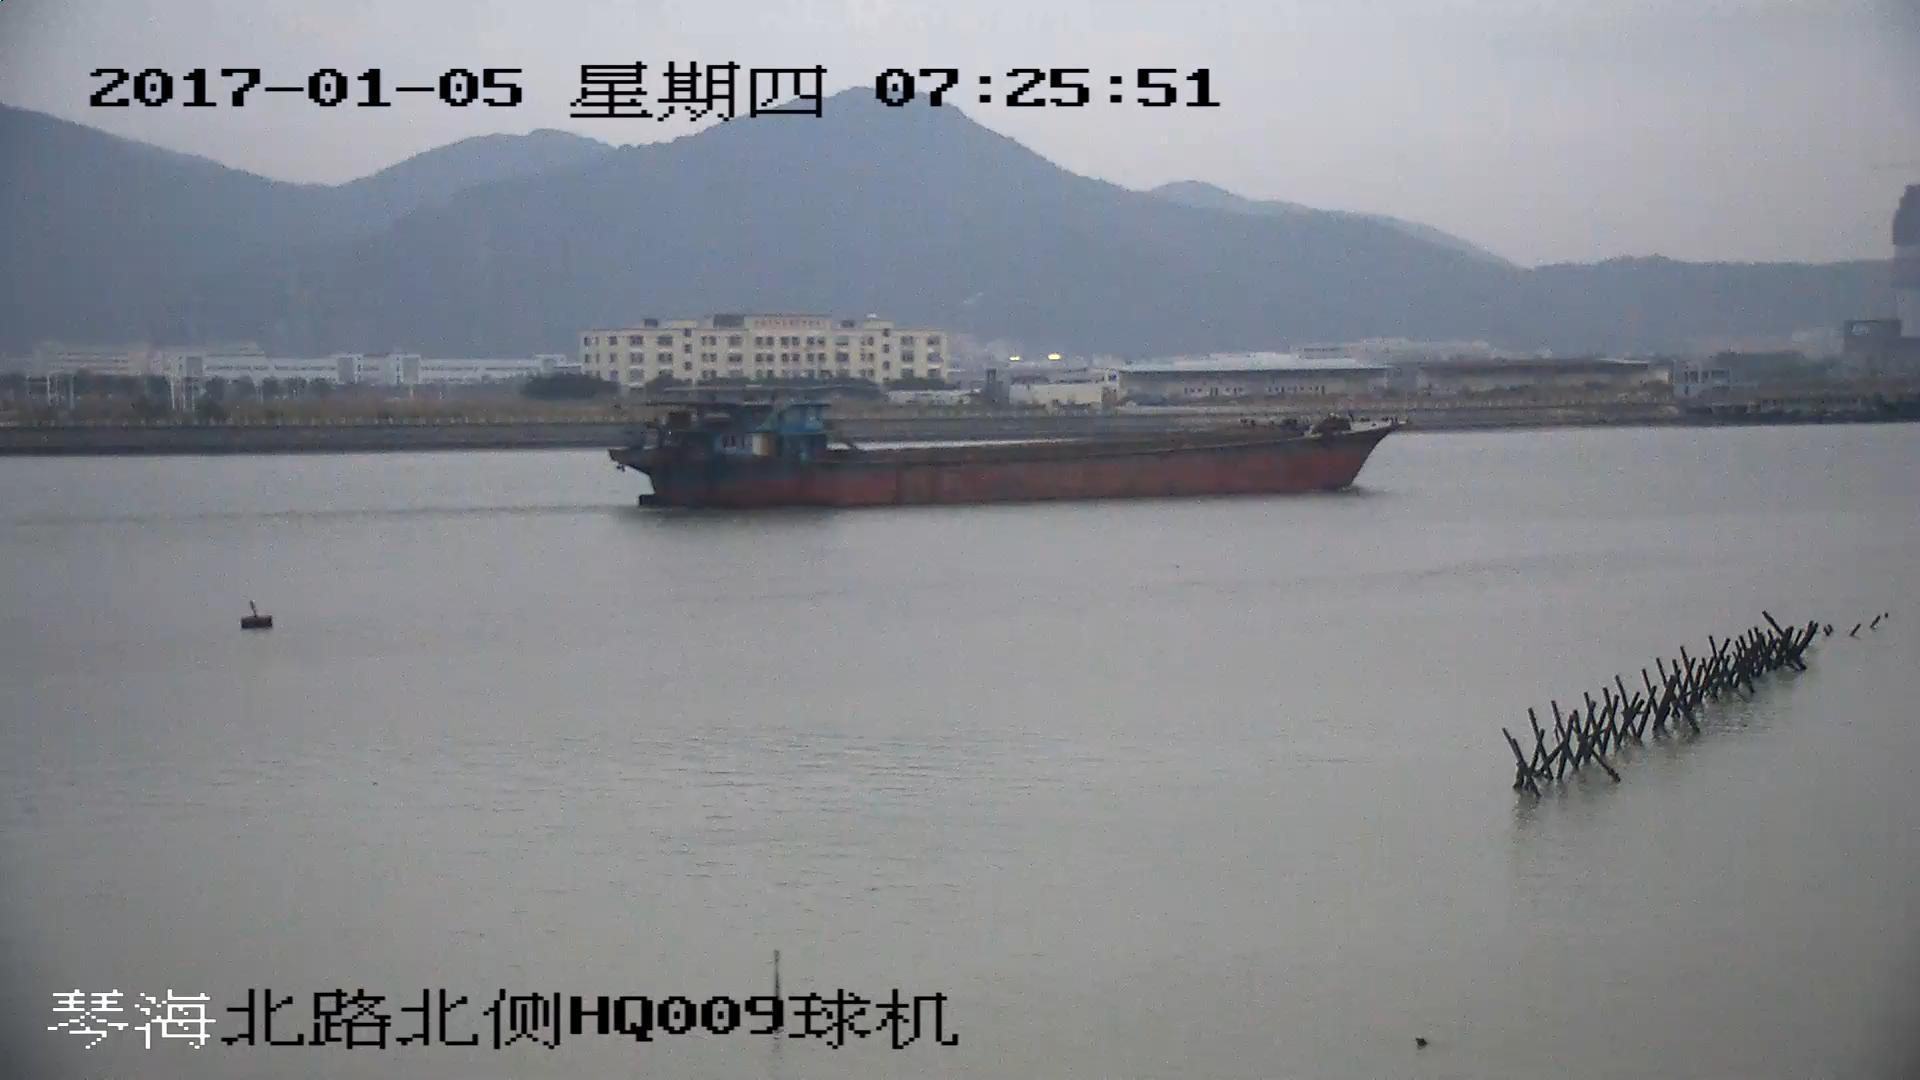Ship: (612, 407, 1412, 508)
